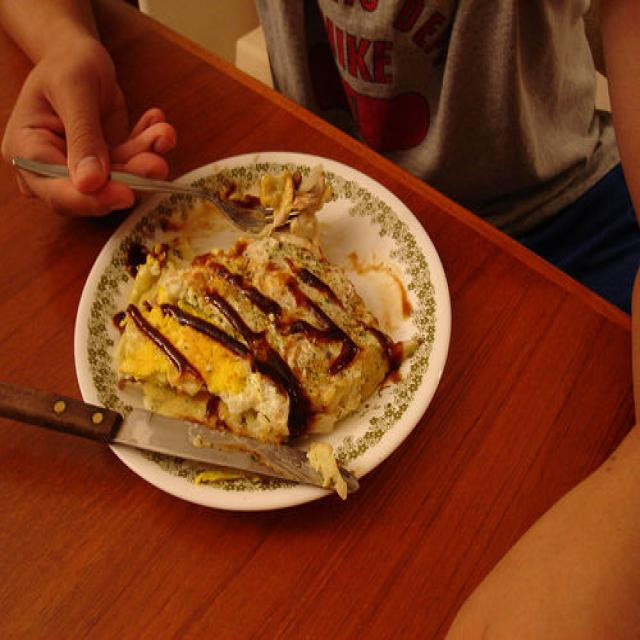chair: (255, 0, 361, 141)
dining table: (1, 1, 634, 633)
